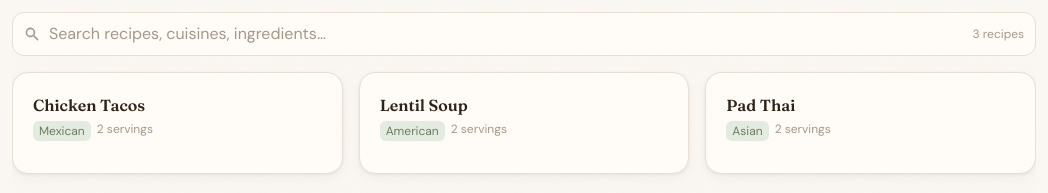
Test: RecipeLibrary › filters by title, ingredient and tag as you type
The width and height of the screenshot is (1048, 193).
Type "chicken" into the search field labelled "Search recipes" at [524, 34], box left=12, top=12, right=1036, bottom=56
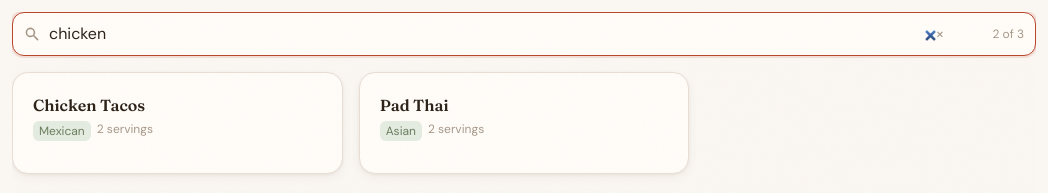
Now the link "Lentil Soup" is gone
Now the text "2 of 3" is shown, box left=992, top=26, right=1024, bottom=42
Replace the text in the search field named "Search recipes" with "vegan" at [524, 34], box left=12, top=12, right=1036, bottom=56
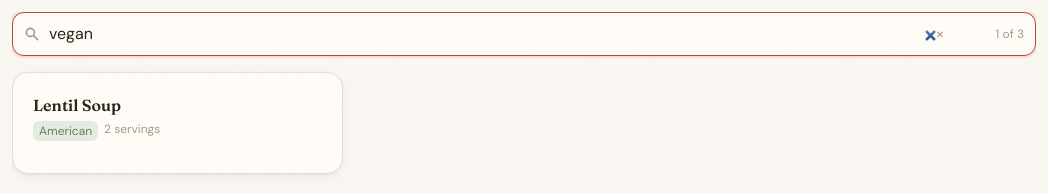
Now the heading "Lentil Soup" is shown, box left=33, top=95, right=121, bottom=115
Now the number of links is 1, box left=12, top=72, right=343, bottom=174
